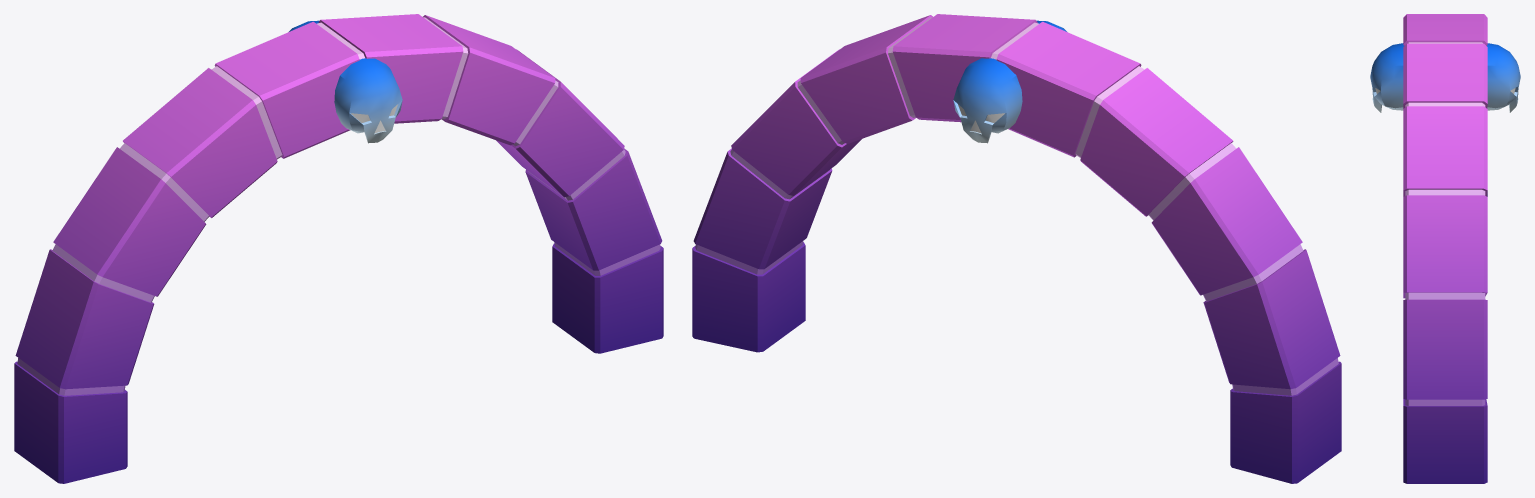
The model's file is Gate.fbx.
3 views of the same model, side by side, from view 1: azimuth 30°, elevation 25°; view 2: azimuth 150°, elevation 25°; view 3: azimuth 270°, elevation 25° (orthographic). The views are drawn at different scales.
Visible parts, largest first — view 1: GateMesh; view 2: GateMesh; view 3: GateMesh.
Boxes of the visible parts, x1,y1,x2,y2 form: GateMesh: (14, 14, 663, 483); GateMesh: (692, 14, 1341, 483); GateMesh: (1370, 14, 1520, 483).
Bounding box in the file's own units: 1801 × 1016 × 444.
